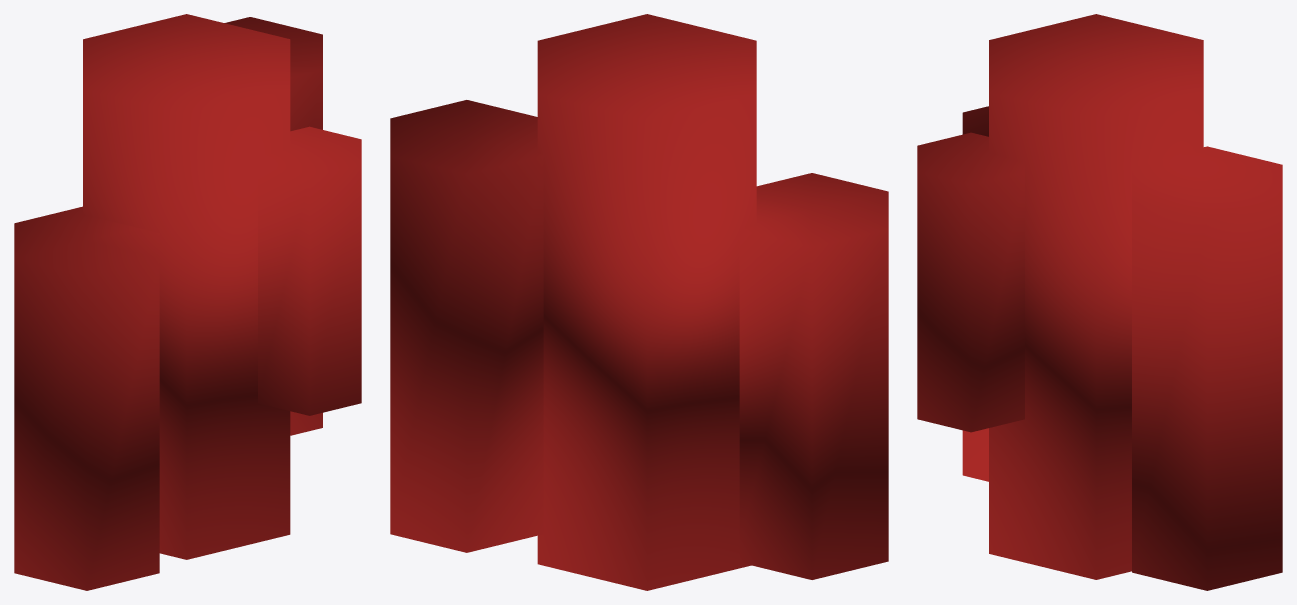
File: ps2_jrpg_coastal_reef_coral_formation.obj
3 renders of one model, left to right at view 1: azimuth 30°, elevation 25°; view 2: azimuth 150°, elevation 25°; view 3: azimuth 270°, elevation 25°, orthographic. The views are drawn at different scales.
Bounding box in the file's own units: 0.7526 × 0.82 × 0.5883.
